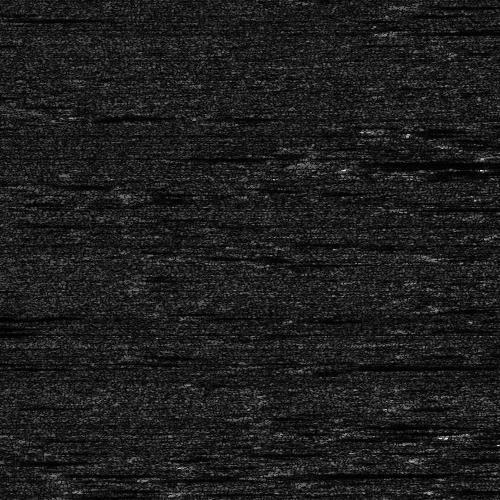object: (273, 157, 346, 168), (440, 428, 493, 439), (224, 470, 297, 477), (283, 363, 336, 370), (403, 454, 444, 461), (485, 228, 500, 237), (385, 26, 396, 33), (0, 13, 10, 20)
shadow: (310, 157, 500, 168), (310, 363, 500, 370), (261, 470, 446, 477), (391, 26, 491, 33), (0, 13, 95, 20), (424, 454, 500, 461), (66, 493, 148, 498), (466, 428, 500, 439), (0, 311, 39, 318)
